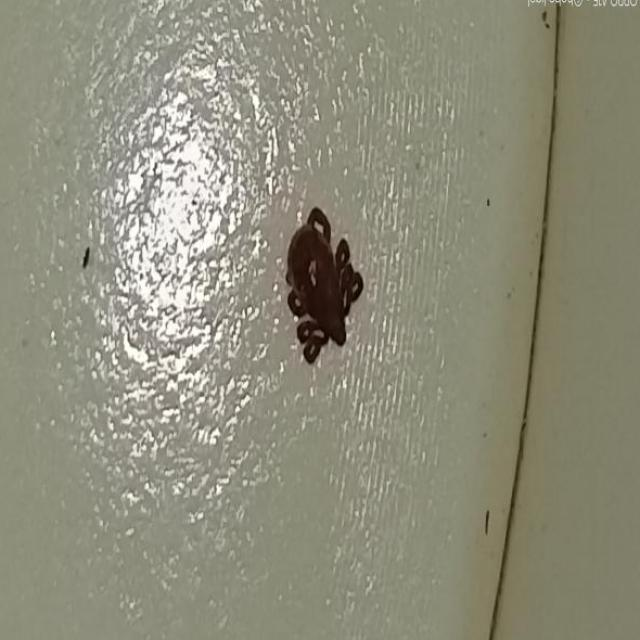Rhipicephalus Sanguineus-M: (283, 205, 365, 364)
